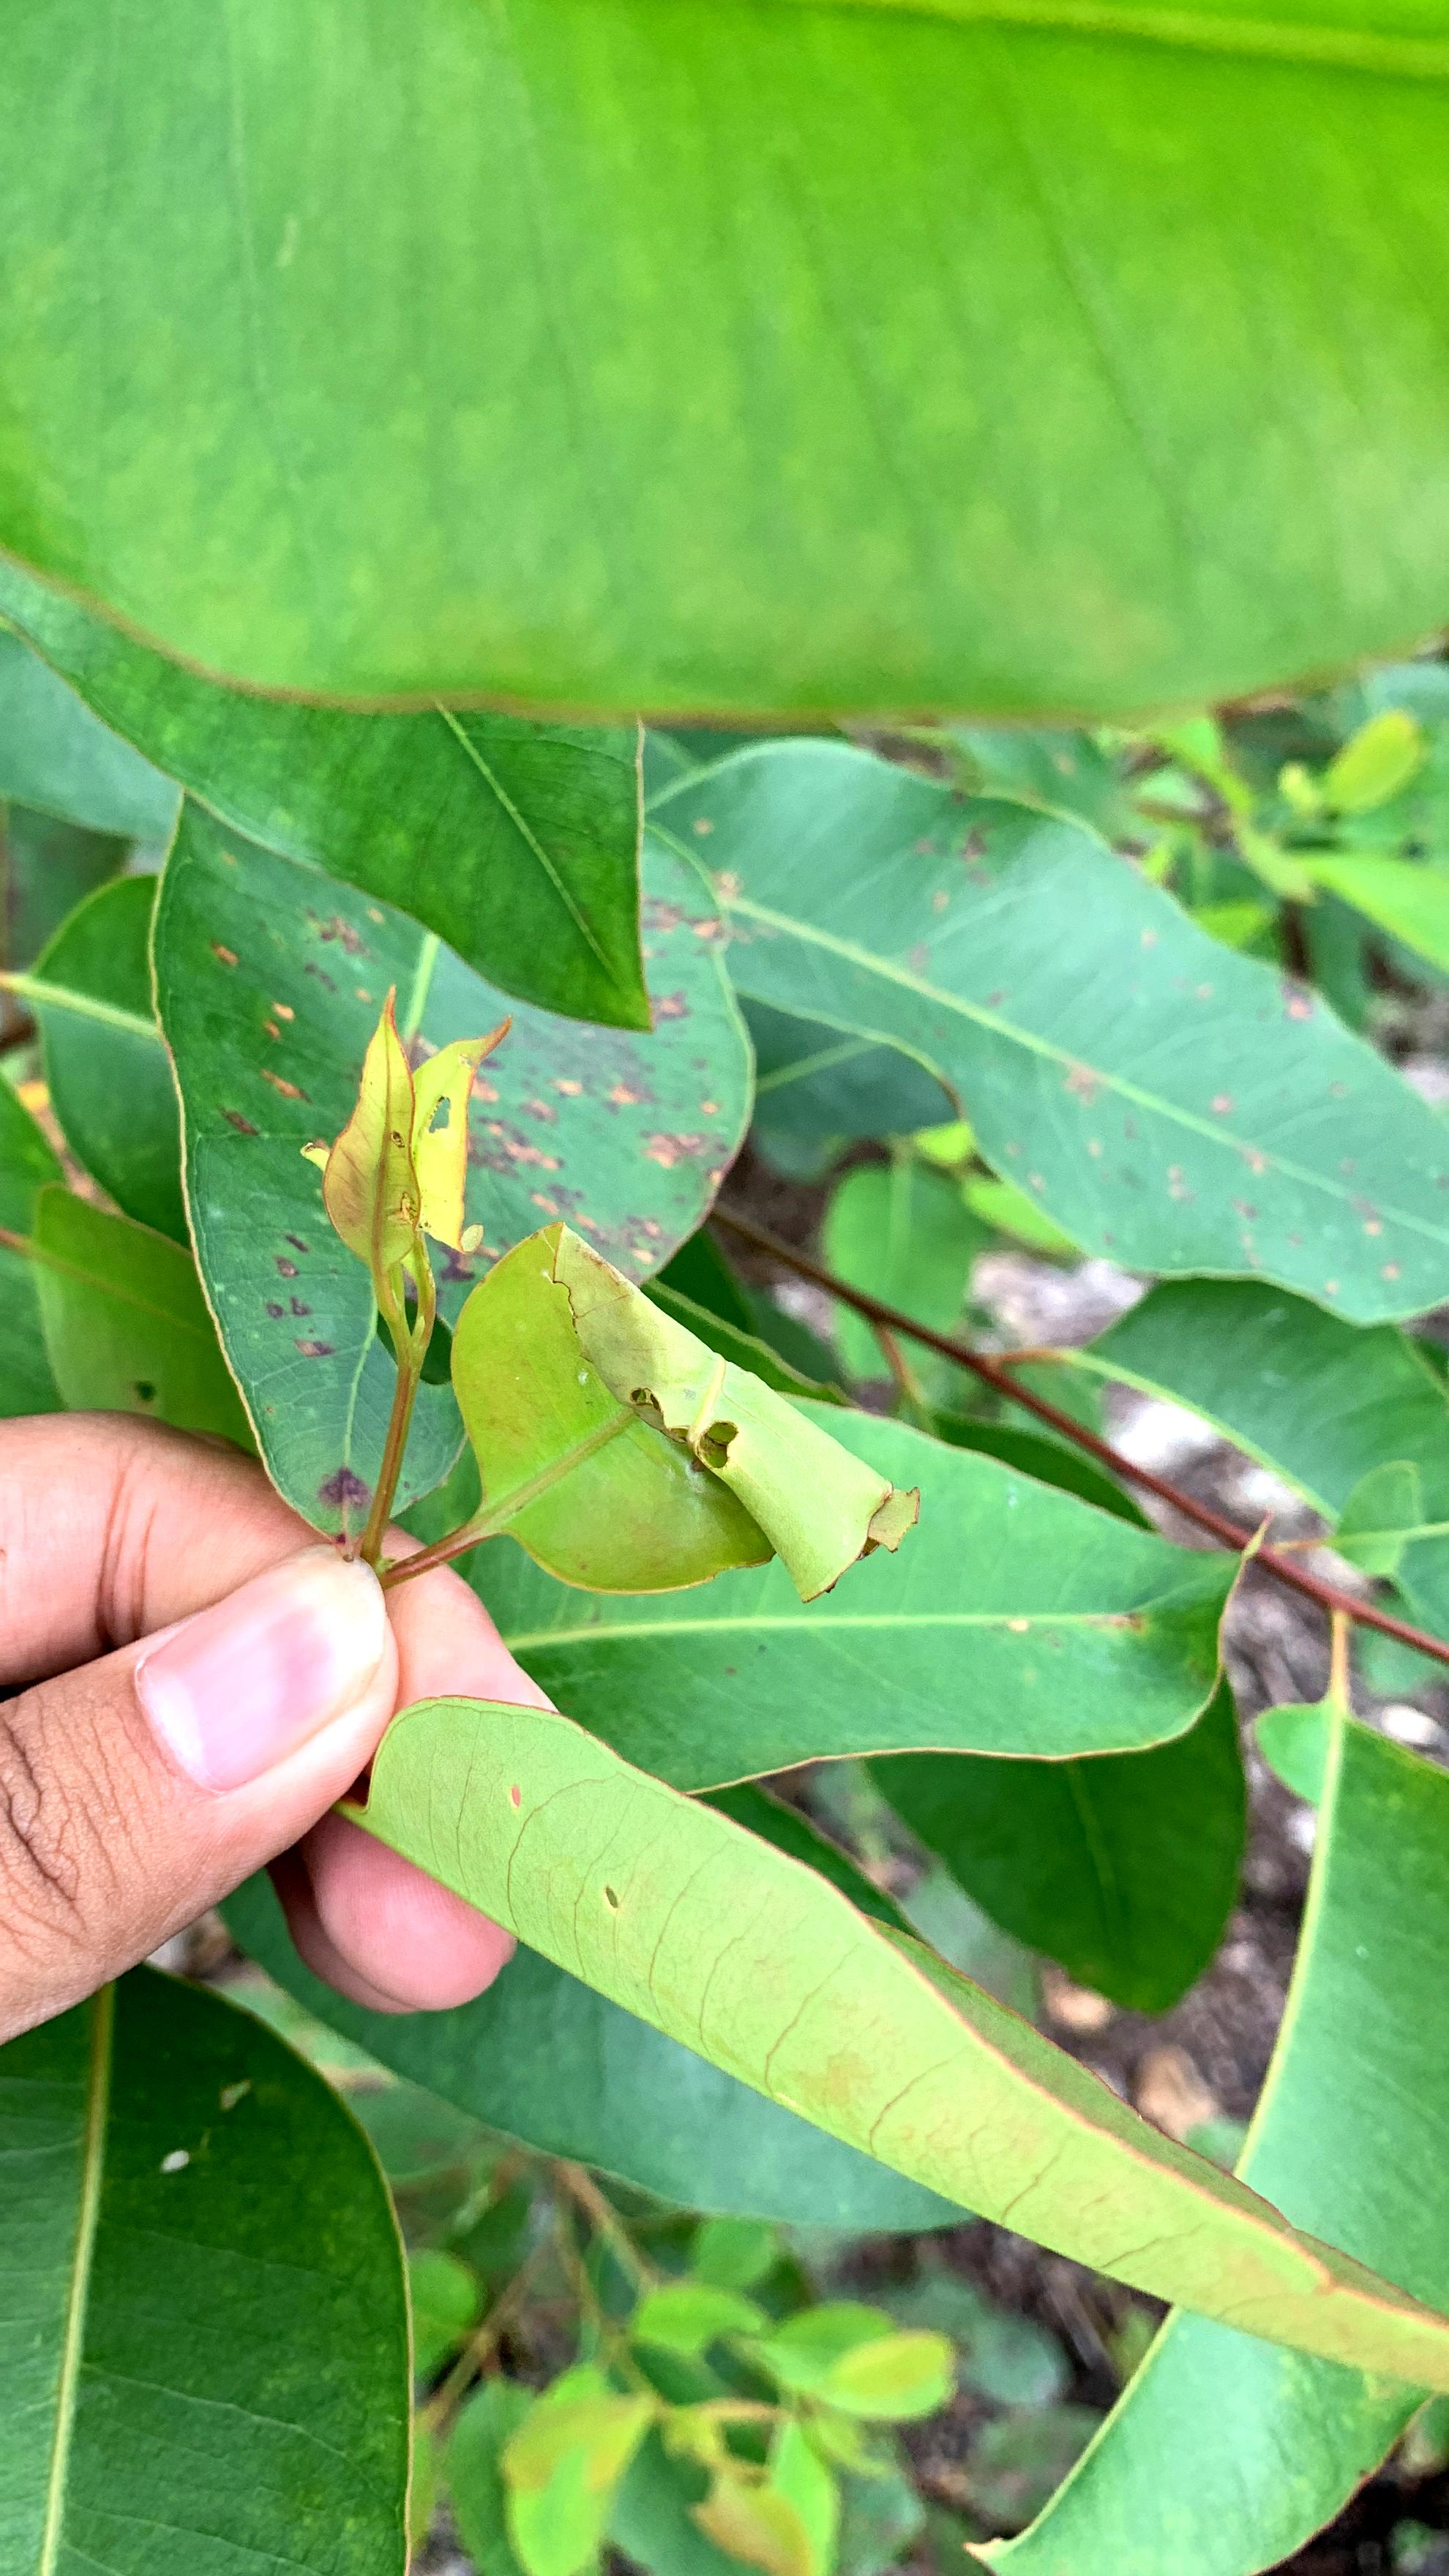Leaf Roller - Leaf: (265, 1019, 950, 1688)
